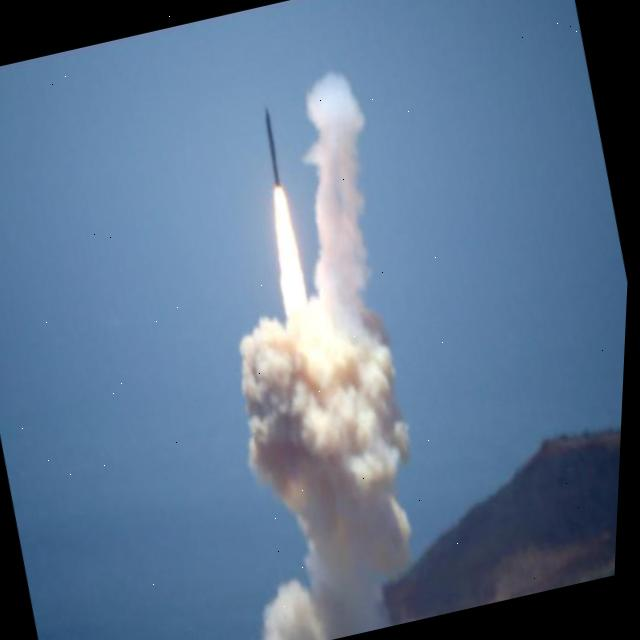missile: (251, 104, 290, 188)
